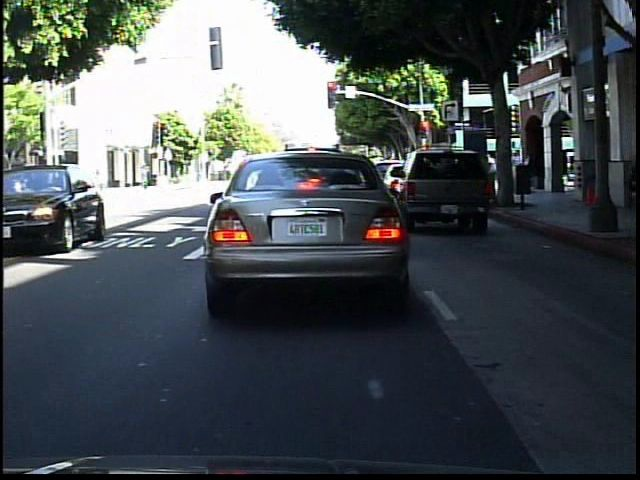person: (590, 144, 612, 217), (619, 141, 639, 220), (65, 161, 81, 200), (53, 163, 66, 206), (36, 168, 50, 206), (139, 162, 155, 192)
